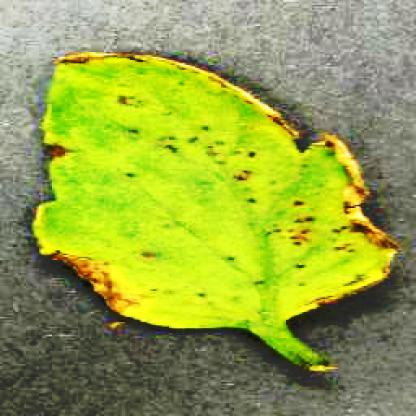BACTERIAL SPOT: (29, 49, 403, 378)
